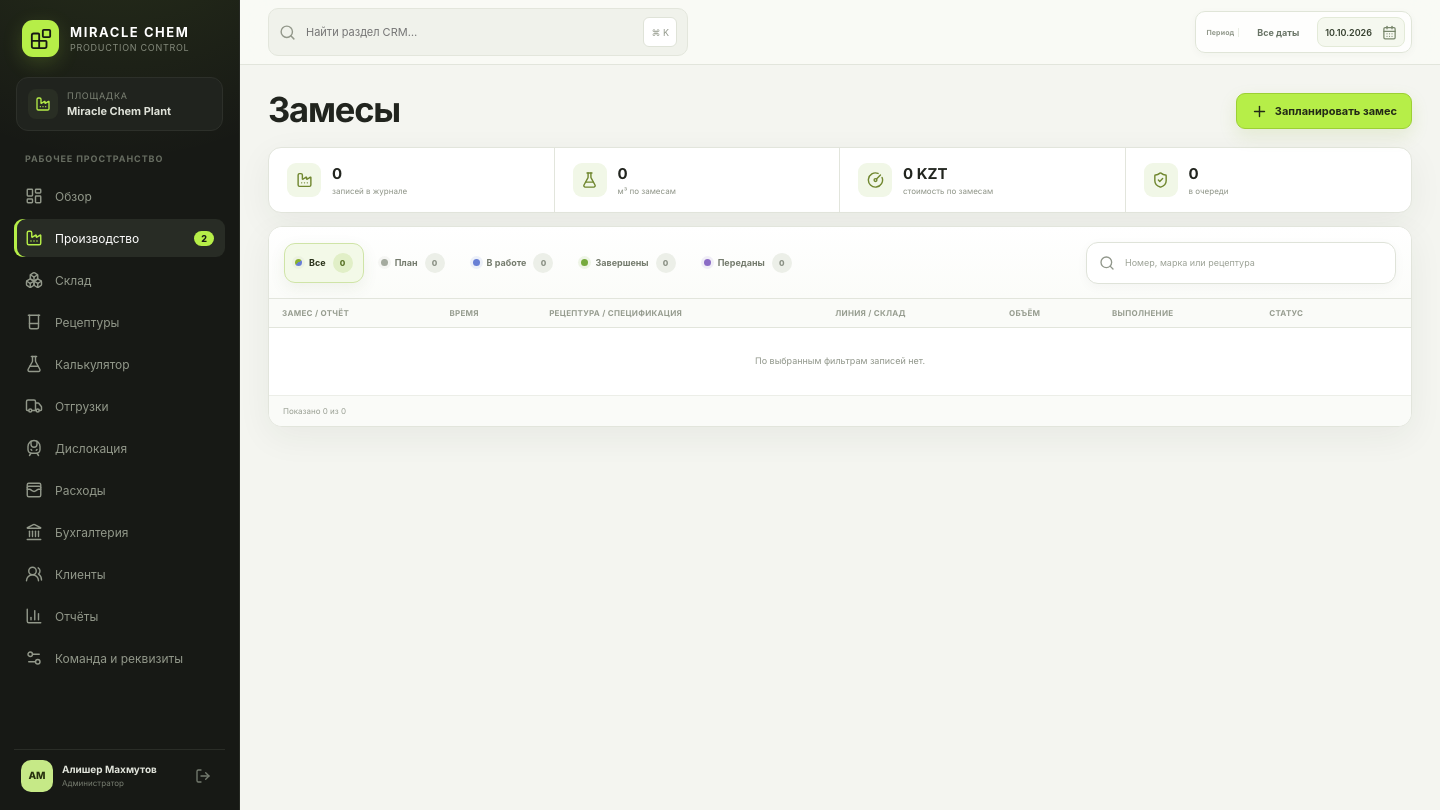
it: Miracle Chem app shell › shows imported shift reports in the common batches table with read-only details
Expected: the heading "Замесы" is shown, [268, 93, 400, 129]
Click the button "Все даты" at (1278, 32), box [1247, 17, 1309, 47]
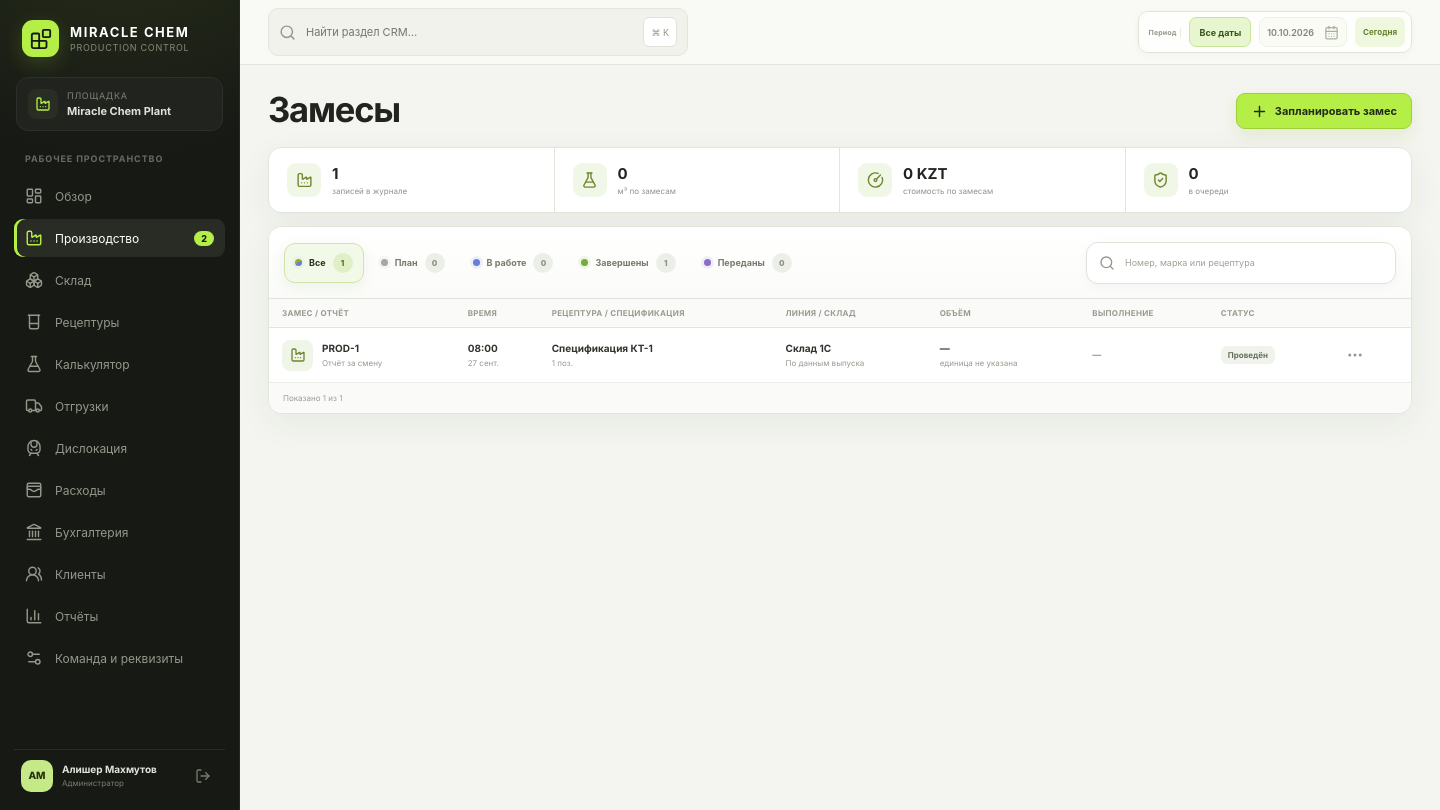
Now the text "PROD-1" is shown, box [322, 343, 359, 355]
Now the text "Показано 1 из 1" is shown, box [283, 393, 342, 403]
Click the button named "Открыть отчёт PROD-1" at (1355, 355), box [1339, 339, 1371, 371]
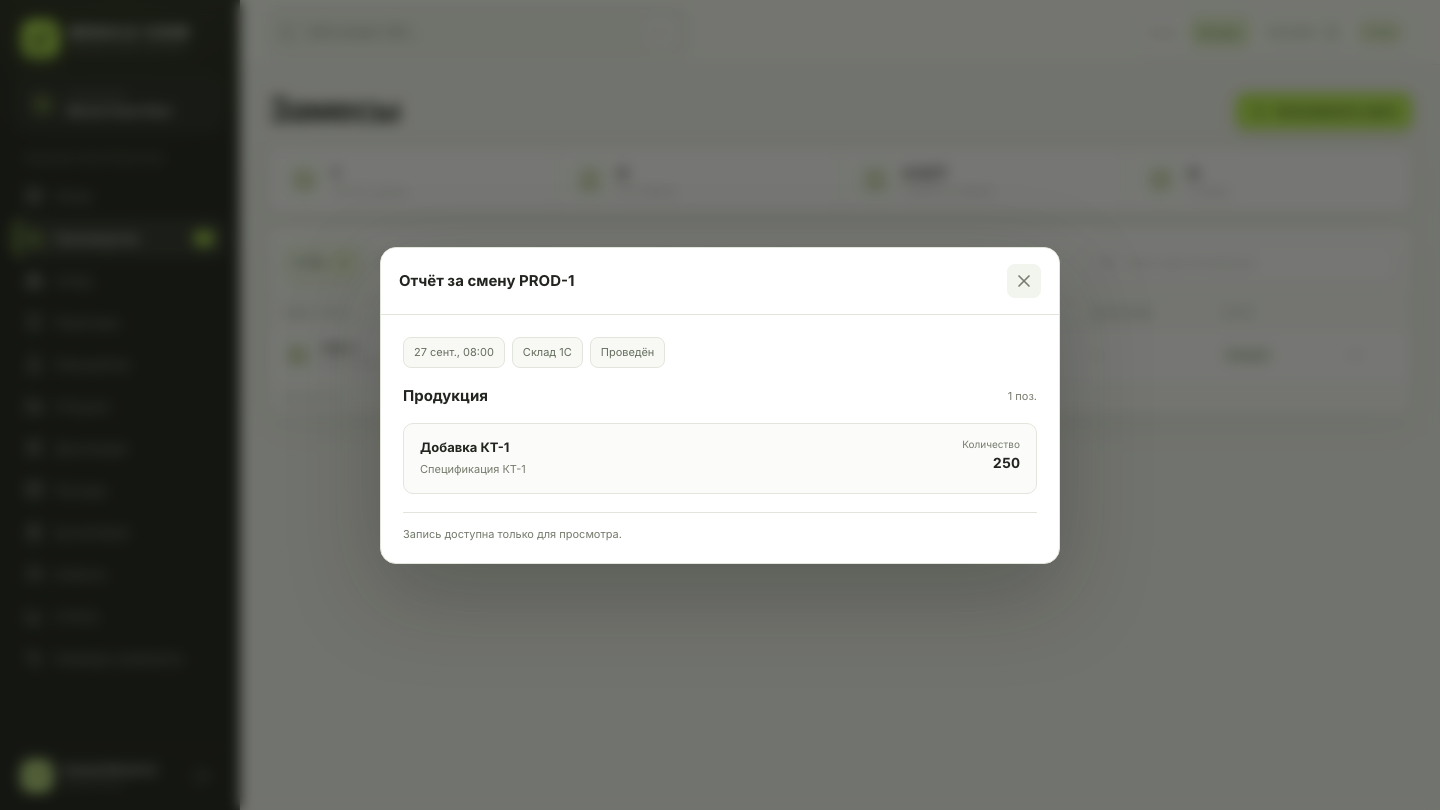
Now the heading "Продукция" is shown, box [403, 386, 488, 405]
Now the text "Добавка КТ-1" is shown, box [420, 440, 510, 456]
Now the text "Количество" is shown, box [962, 439, 1020, 451]
